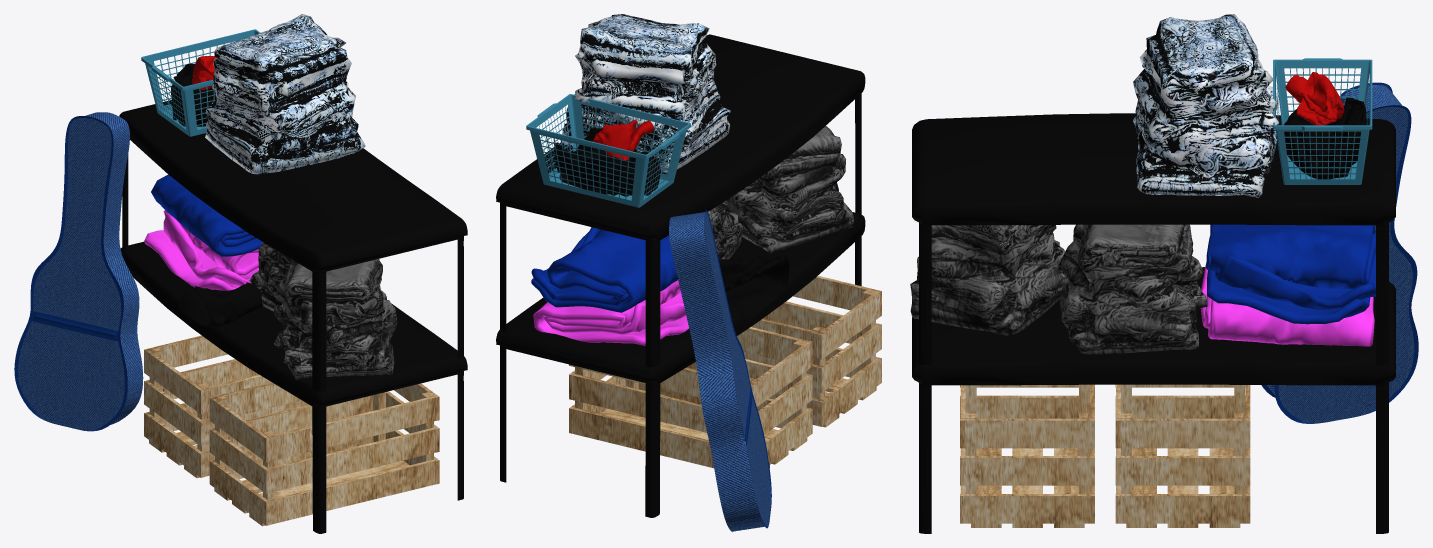
Rendered from assets2.glb.
The picture shows the model from 3 angles, left to right: view 1: azimuth 30°, elevation 25°; view 2: azimuth 150°, elevation 25°; view 3: azimuth 270°, elevation 25°; orthographic projection. The views are drawn at different scales.
Visible parts, largest first — view 1: Cube.006, Plane.015, Cube.007, PileofClothes4_PileofClothes4_0, PileofClothes3_PileofClothes3_0.001, Cube.018, fabric02, fabric02.001, Plane.012, fabric03, PileofClothes3_PileofClothes3_0, fabric01 (+1 smaller); view 2: Cube.006, Cube.018, PileofClothes4_PileofClothes4_0, Plane.015, Cube.007, PileofClothes3_PileofClothes3_0.001, Plane.012, fabric02.001, fabric02, fabric03, fabric01, PileofClothes3_PileofClothes3_0 (+1 smaller); view 3: Cube.006, PileofClothes4_PileofClothes4_0, Cube.018, Cube.007, PileofClothes3_PileofClothes3_0, fabric02.001, PileofClothes3_PileofClothes3_0.001, Plane.015, Plane.012, fabric02, fabric01, fabric06.
Part boxes in pixels (left/top/right/bottom): Cube.006: left=119, top=100, right=467, bottom=533; Plane.015: left=14, top=112, right=143, bottom=431; Cube.007: left=209, top=382, right=439, bottom=526; PileofClothes4_PileofClothes4_0: left=205, top=14, right=365, bottom=175; PileofClothes3_PileofClothes3_0.001: left=273, top=259, right=397, bottom=379; Cube.018: left=144, top=335, right=308, bottom=478; fabric02: left=144, top=210, right=258, bottom=290; fabric02.001: left=151, top=174, right=262, bottom=256; Plane.012: left=141, top=29, right=260, bottom=136; fabric03: left=177, top=282, right=262, bottom=327; PileofClothes3_PileofClothes3_0: left=249, top=242, right=386, bottom=311; fabric01: left=171, top=63, right=216, bottom=126; Cube.006: left=496, top=34, right=865, bottom=517; Cube.018: left=569, top=327, right=812, bottom=468; PileofClothes4_PileofClothes4_0: left=562, top=14, right=730, bottom=172; Plane.015: left=669, top=209, right=771, bottom=531; Cube.007: left=743, top=275, right=881, bottom=427; PileofClothes3_PileofClothes3_0.001: left=725, top=126, right=854, bottom=253; Plane.012: left=526, top=94, right=690, bottom=207; fabric02.001: left=531, top=227, right=677, bottom=312; fabric02: left=533, top=280, right=688, bottom=345; fabric03: left=719, top=255, right=789, bottom=322; fabric01: left=554, top=128, right=660, bottom=196; PileofClothes3_PileofClothes3_0: left=708, top=198, right=743, bottom=259; Cube.006: left=912, top=113, right=1395, bottom=533; PileofClothes4_PileofClothes4_0: left=1133, top=14, right=1278, bottom=197; Cube.018: left=1115, top=384, right=1250, bottom=527; Cube.007: left=960, top=384, right=1094, bottom=527; PileofClothes3_PileofClothes3_0: left=1057, top=224, right=1207, bottom=354; fabric02.001: left=1205, top=224, right=1375, bottom=324; PileofClothes3_PileofClothes3_0.001: left=910, top=225, right=1068, bottom=335; Plane.015: left=1261, top=82, right=1418, bottom=423; Plane.012: left=1273, top=58, right=1372, bottom=184; fabric02: left=1200, top=267, right=1374, bottom=346; fabric01: left=1284, top=97, right=1366, bottom=179; fabric06: left=1285, top=72, right=1344, bottom=125.
Size of the model in its own units: 1.05 by 1.56 by 1.55.
Materials: 11 (4 with a texture image).
